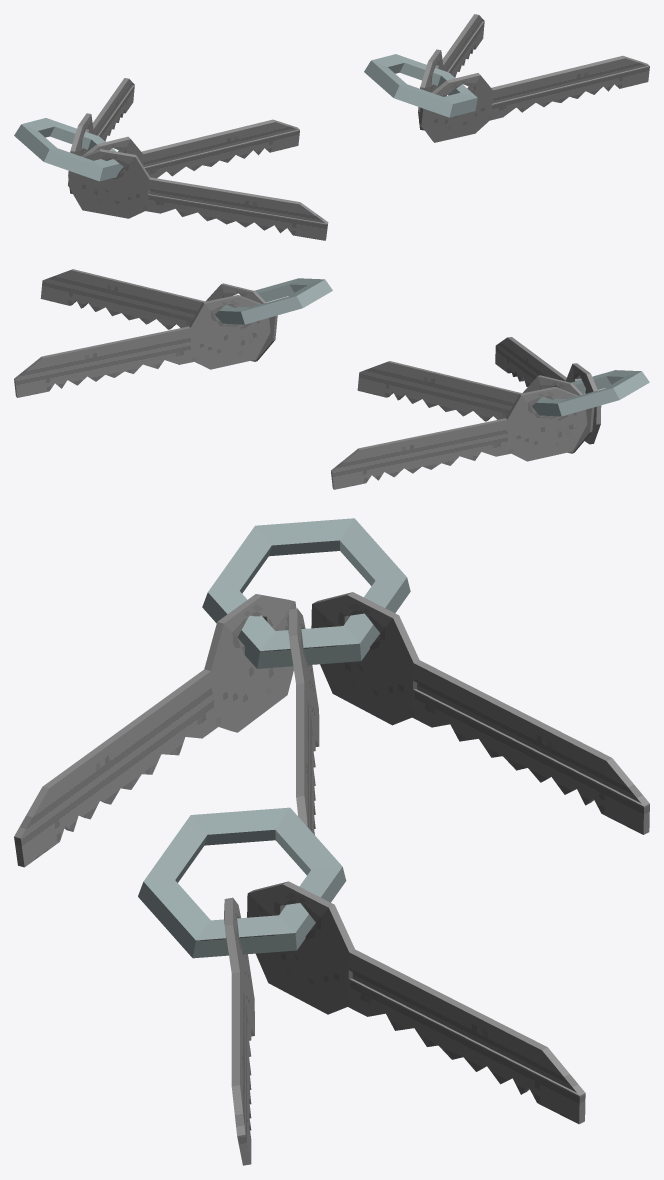
Rendered from Multiple Keys.fbx.
3 renders of one model, top to bottom at view 1: azimuth 30°, elevation 25°; view 2: azimuth 150°, elevation 25°; view 3: azimuth 270°, elevation 25°, orthographic. The views are drawn at different scales.
Parts seen in each view (by area): view 1: TripleKey, DoubleKey; view 2: TripleKey, DoubleKey; view 3: TripleKey, DoubleKey.
Part boxes in pixels (left/top/right/bottom): TripleKey: left=14, top=78, right=328, bottom=240; DoubleKey: left=364, top=14, right=649, bottom=142; TripleKey: left=331, top=337, right=649, bottom=489; DoubleKey: left=14, top=269, right=332, bottom=397; TripleKey: left=14, top=518, right=649, bottom=867; DoubleKey: left=138, top=807, right=585, bottom=1165.
Bounding box in the file's own units: 0.3187 × 0.0491 × 0.1666.
